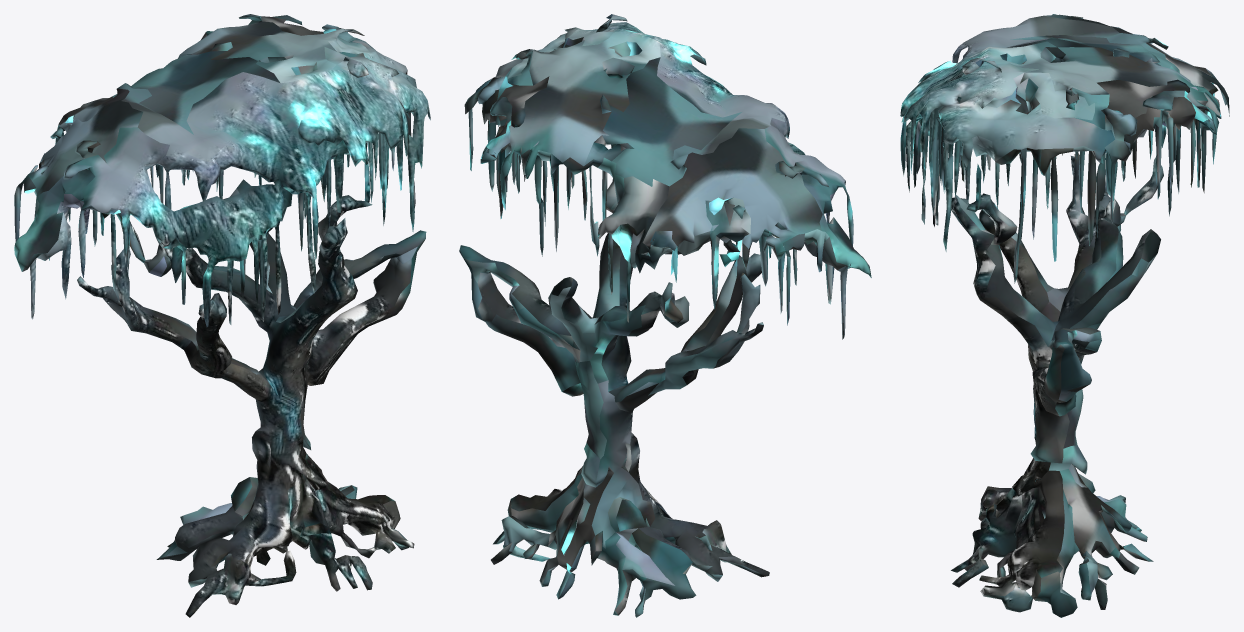
Rendered from tree_willow.glb.
3 renders of one model, left to right at view 1: azimuth 30°, elevation 25°; view 2: azimuth 150°, elevation 25°; view 3: azimuth 270°, elevation 25°, orthographic.
Visible parts, largest first — view 1: geometry_0; view 2: geometry_0; view 3: geometry_0.
Boxes of the visible parts, bbox=[...] form: geometry_0: bbox=[14, 14, 430, 617]; geometry_0: bbox=[459, 14, 871, 617]; geometry_0: bbox=[900, 14, 1229, 617].
Bounding box in the file's own units: 1.6 × 1.95 × 1.11.
1 material, 1 textured.
